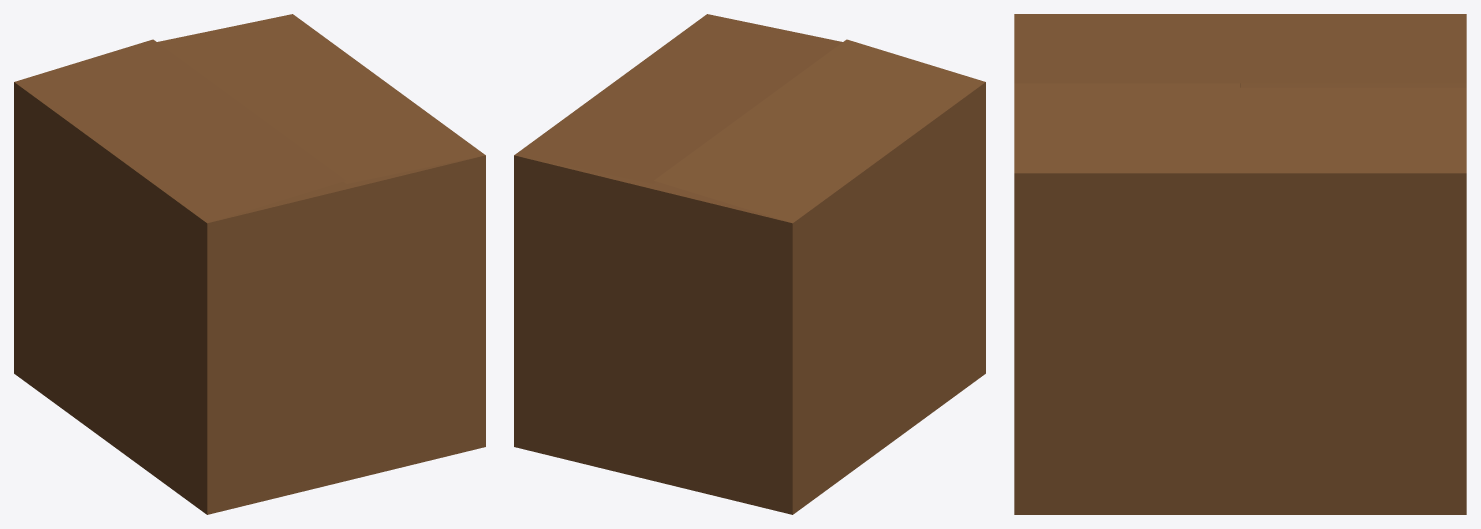
Rendered from Cardboard Box Closed.fbx.
3 views of the same model, side by side, from view 1: azimuth 30°, elevation 25°; view 2: azimuth 150°, elevation 25°; view 3: azimuth 270°, elevation 25° (orthographic). The views are drawn at different scales.
Visible parts, largest first — view 1: CardboxClosed; view 2: CardboxClosed; view 3: CardboxClosed.
Boxes of the visible parts, x1,y1,x2,y2 form: CardboxClosed: [14, 14, 485, 514]; CardboxClosed: [514, 14, 985, 514]; CardboxClosed: [1014, 14, 1466, 514].
Size of the model in its own units: 100 by 103 by 120.
